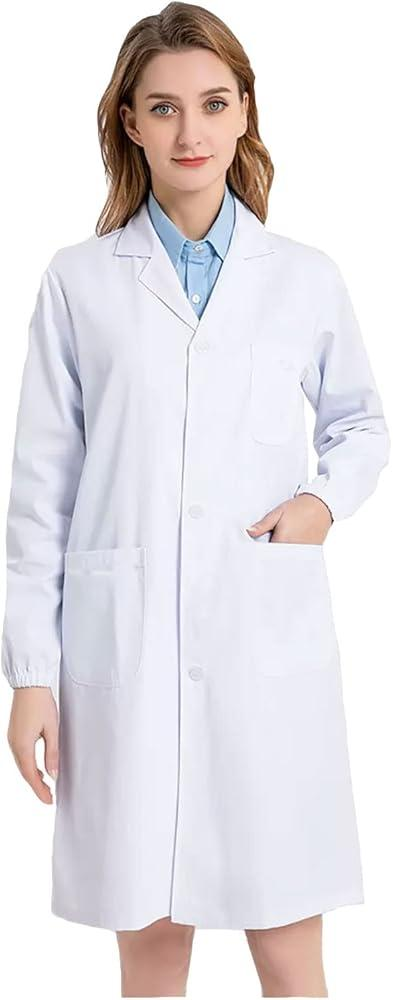Bata-Correcta: (3, 4, 388, 997)
